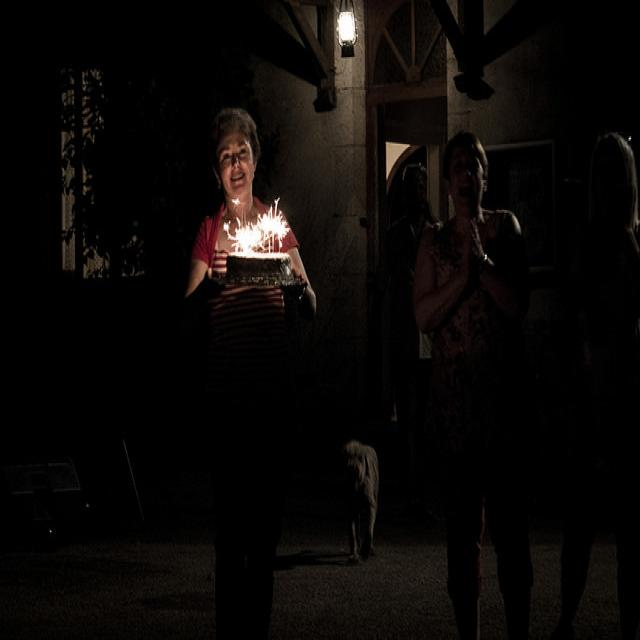Dog: (335, 434, 385, 574)
